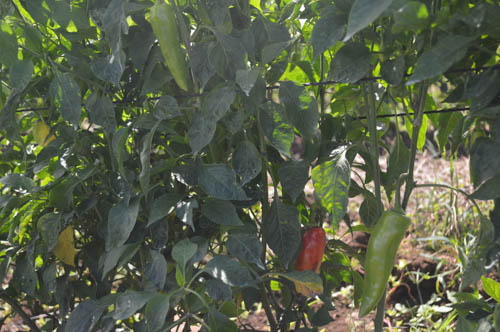ChiliPepper: (359, 210, 412, 318), (151, 7, 193, 90)
